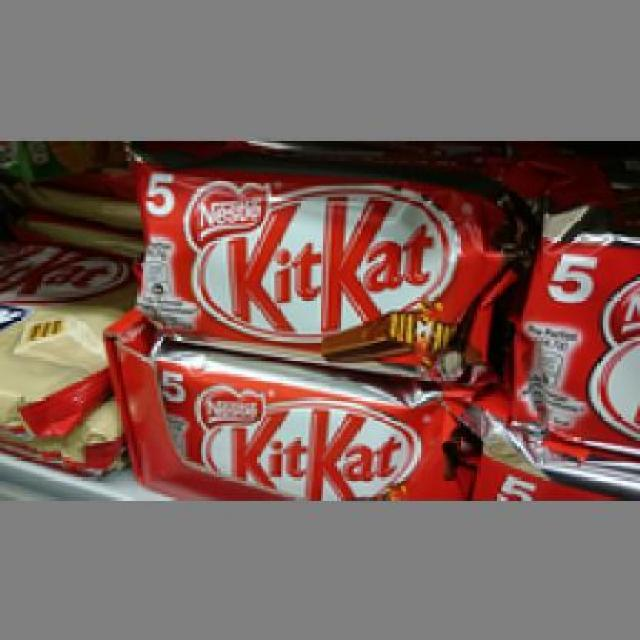Chocolate: (122, 163, 488, 374), (134, 343, 463, 494), (512, 214, 638, 452)
